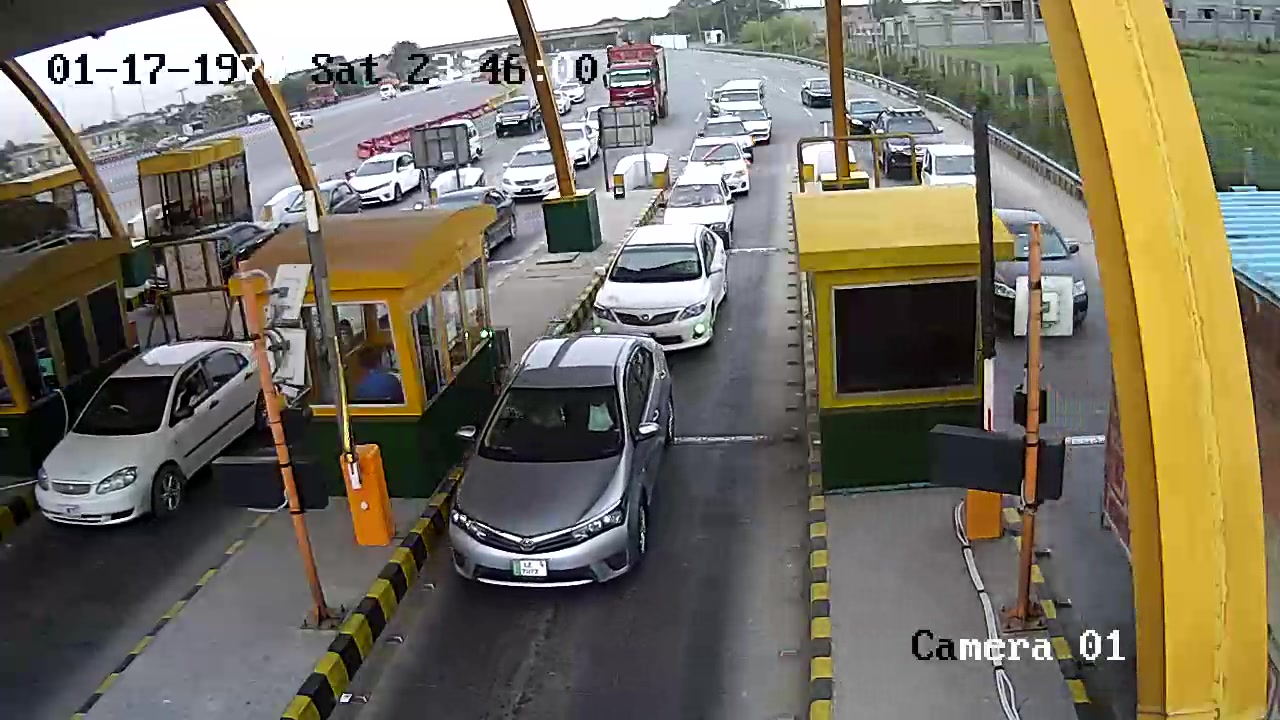F1: (441, 335, 683, 592), (590, 225, 729, 339)
